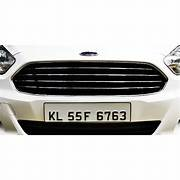number_plate: (45, 103, 131, 123)
